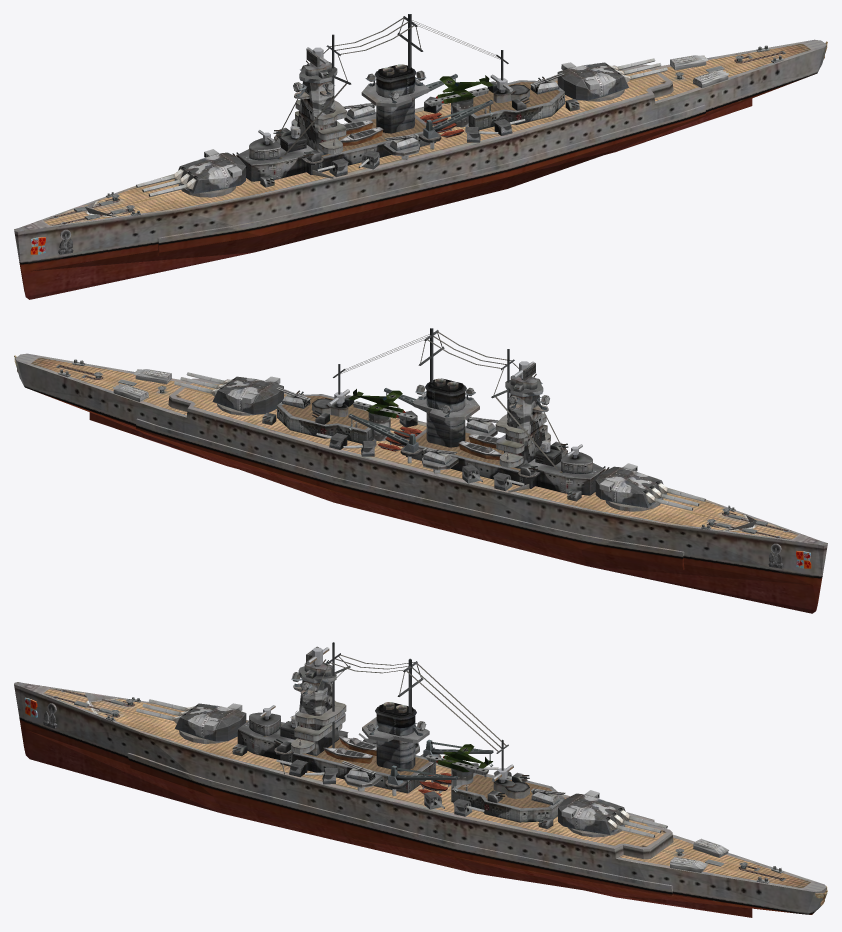
File: GrafSpee.dae
3 renders of one model, top to bottom at view 1: azimuth 30°, elevation 25°; view 2: azimuth 150°, elevation 25°; view 3: azimuth 330°, elevation 25°, orthographic.
Parts seen in each view (by area): view 1: node; view 2: node; view 3: node.
Part boxes in pixels (bbox=[...]): node: bbox=[14, 14, 827, 299]; node: bbox=[14, 328, 827, 613]; node: bbox=[14, 642, 827, 917].
Size of the model in its own units: 2648 by 599 by 318.
Materials: 1 (1 with a texture image).
